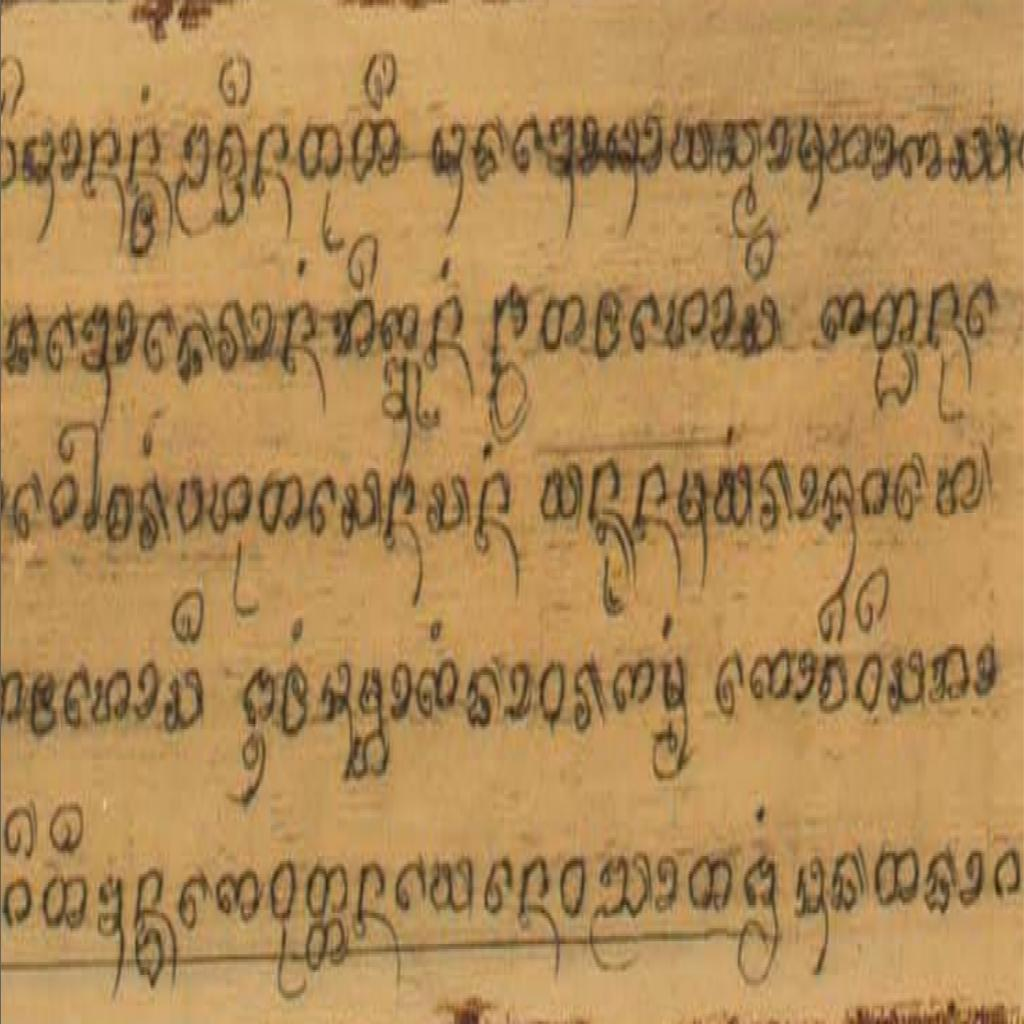LN002: (96, 868, 126, 951)
LN015: (737, 848, 782, 994)
LN020: (922, 842, 959, 924)
